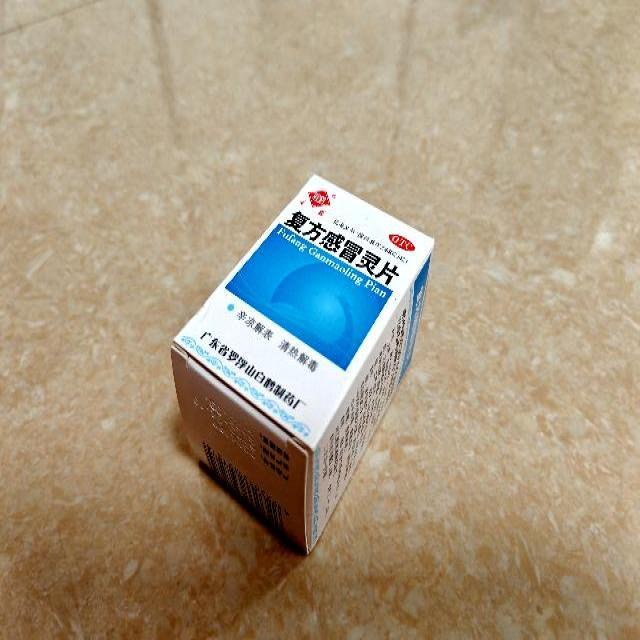box: (171, 172, 435, 556)
